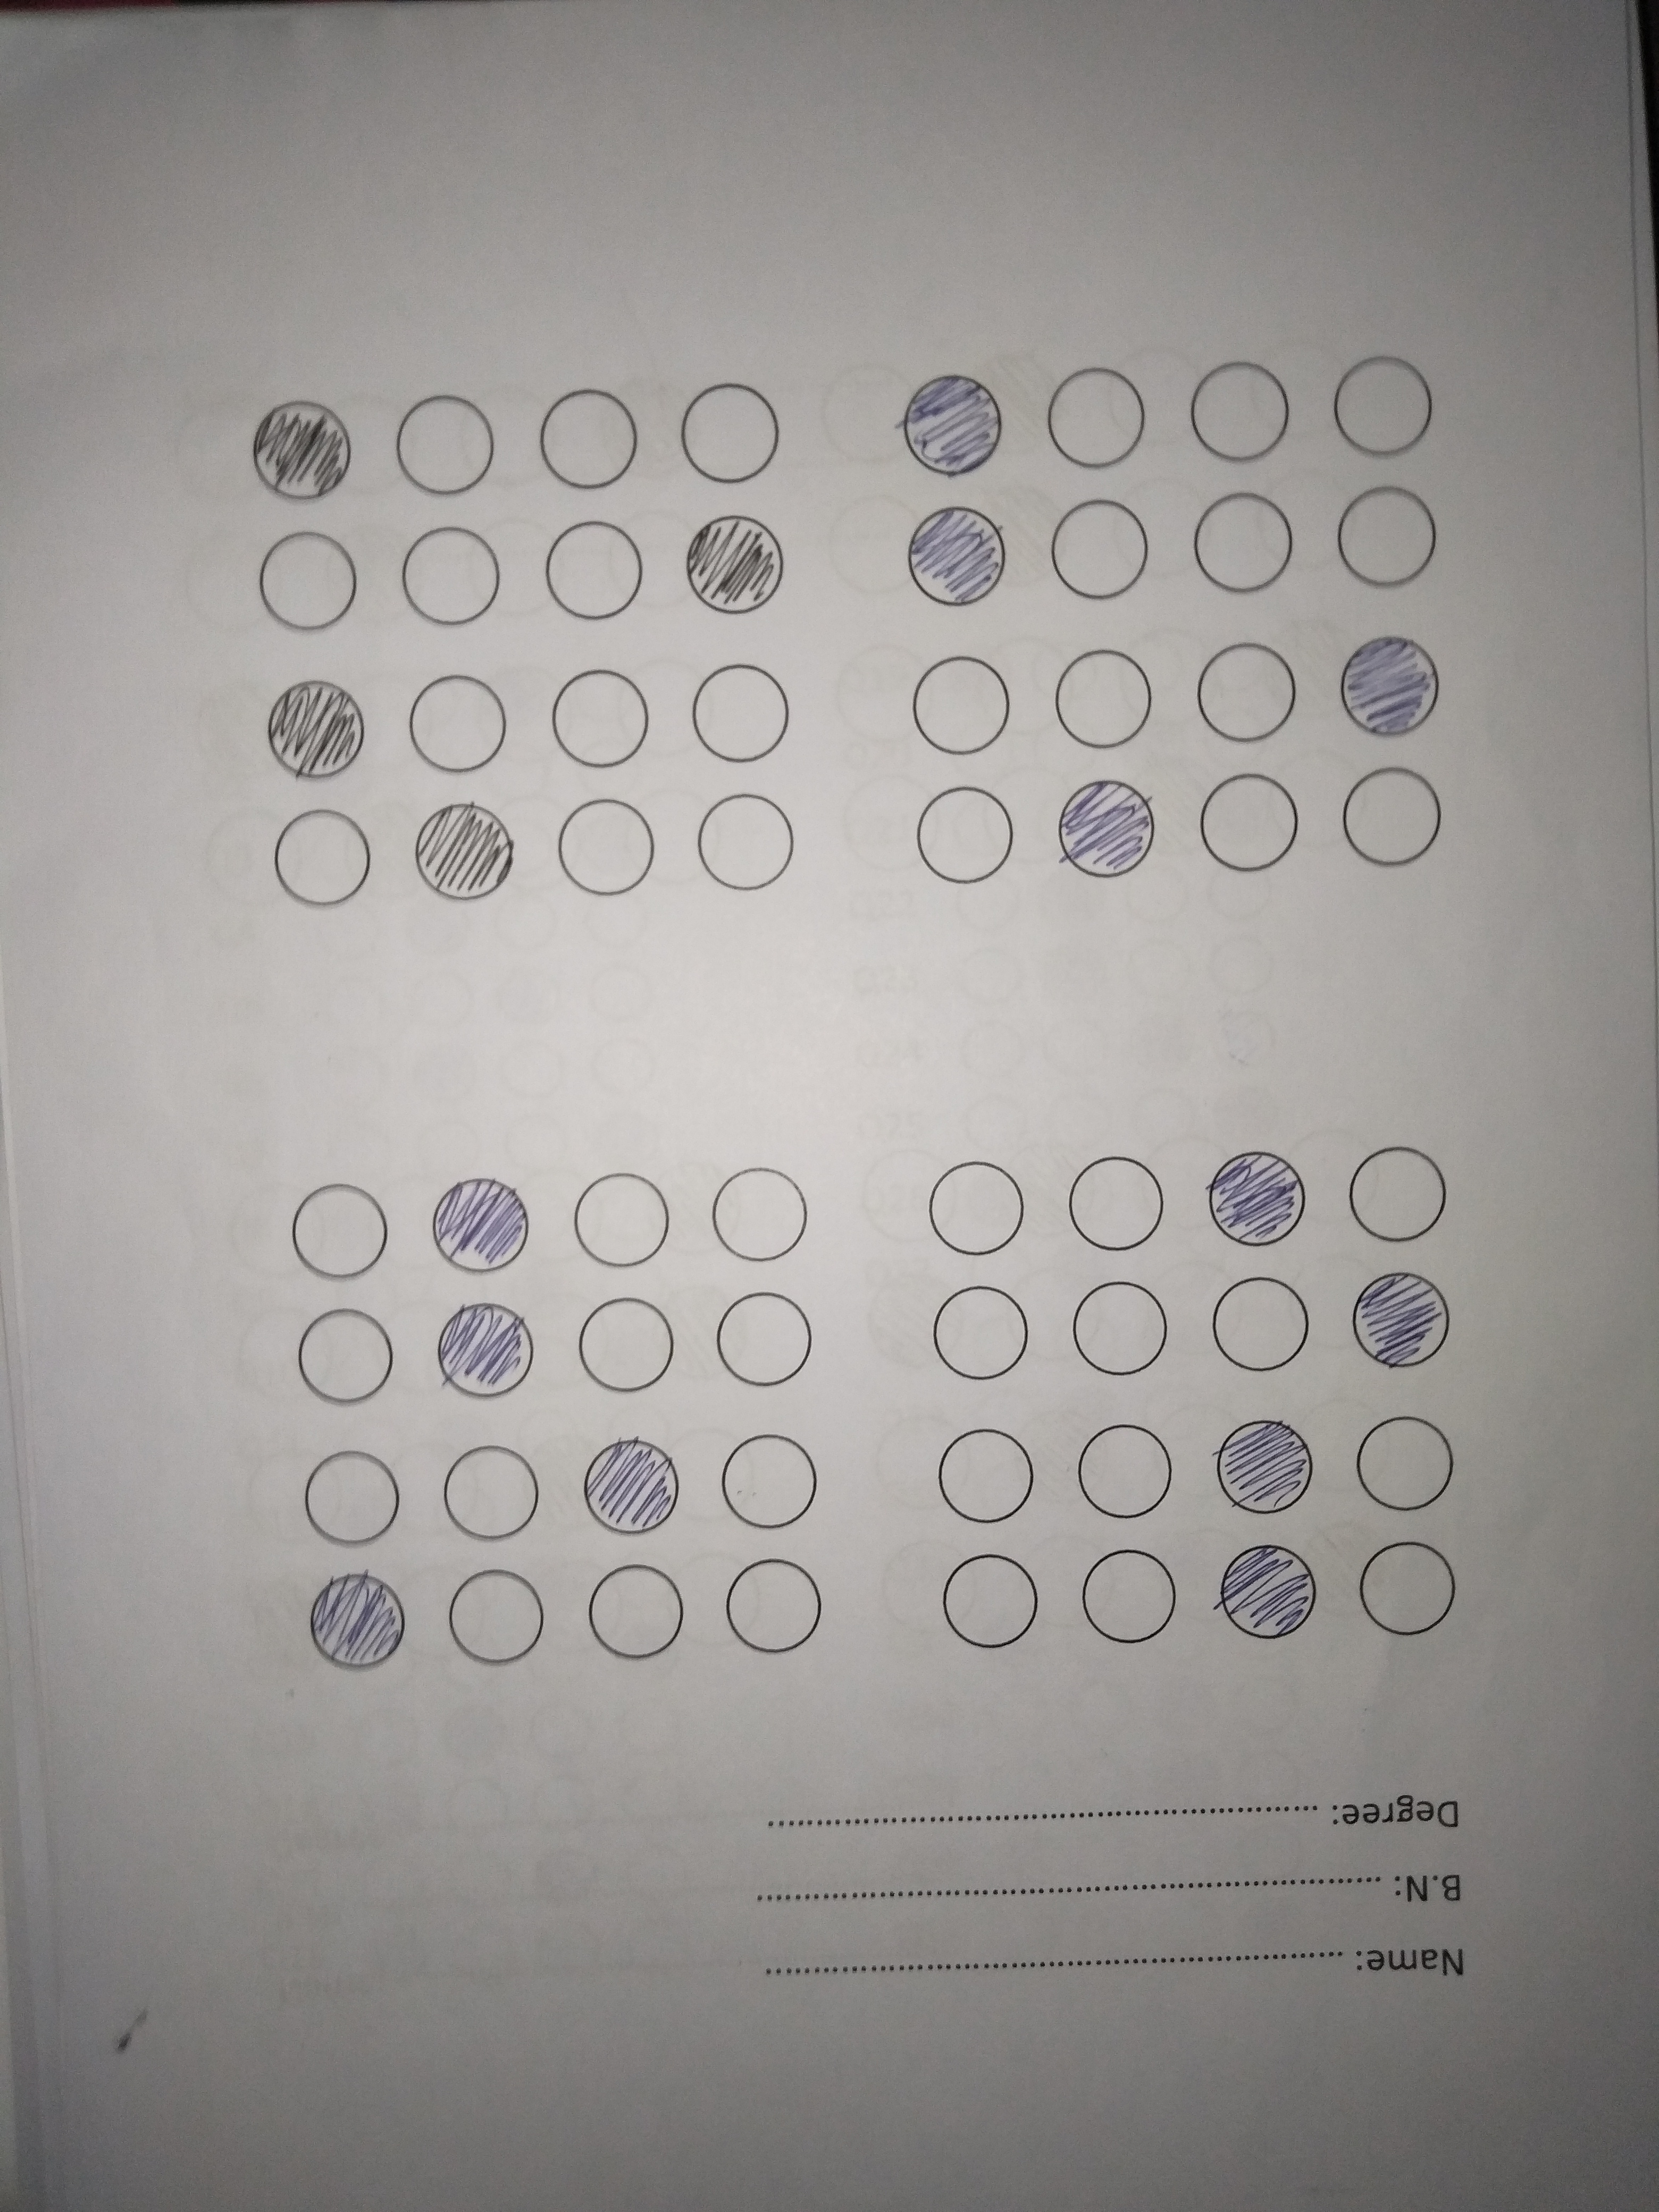not-c: (1314, 472, 1462, 601), (1324, 343, 1460, 470), (575, 1555, 701, 1689), (537, 657, 664, 787), (1070, 1540, 1206, 1662), (680, 787, 817, 906), (908, 1268, 1046, 1386), (525, 376, 648, 507), (239, 516, 369, 639), (697, 1157, 824, 1282), (699, 1284, 826, 1409), (1331, 758, 1459, 883), (711, 1416, 829, 1550), (1056, 1273, 1185, 1395), (1185, 625, 1305, 756), (382, 519, 511, 636), (265, 1172, 397, 1285), (282, 1440, 416, 1552), (525, 516, 653, 631), (1337, 1536, 1469, 1648), (892, 779, 1026, 888), (390, 664, 516, 780), (1037, 357, 1159, 475), (1345, 1409, 1467, 1527), (556, 1162, 680, 1278), (1180, 488, 1303, 604), (924, 1418, 1044, 1536), (427, 1566, 554, 1677), (275, 1299, 408, 1406), (385, 383, 504, 502), (716, 1552, 835, 1670), (261, 799, 385, 913), (681, 658, 807, 770), (1040, 489, 1161, 604), (1185, 352, 1298, 474), (673, 374, 789, 491), (1335, 1141, 1455, 1254), (1061, 1146, 1178, 1261), (563, 1289, 681, 1402), (538, 792, 662, 900), (1051, 636, 1161, 756), (920, 1153, 1040, 1263), (429, 1435, 551, 1543), (1204, 1264, 1319, 1378), (904, 651, 1021, 763), (1188, 773, 1307, 880), (934, 1548, 1047, 1656), (1070, 1418, 1180, 1526)
taken-c: (899, 369, 1006, 479), (903, 500, 1009, 610), (249, 395, 355, 503), (1337, 631, 1443, 738), (305, 1568, 410, 1676), (681, 510, 786, 617), (580, 1432, 685, 1538), (1054, 775, 1157, 881), (265, 674, 366, 782), (1349, 1266, 1452, 1371), (432, 1299, 537, 1402), (430, 1170, 532, 1277), (411, 799, 514, 902), (1215, 1541, 1321, 1641), (1206, 1148, 1309, 1249), (1209, 1414, 1314, 1514)
